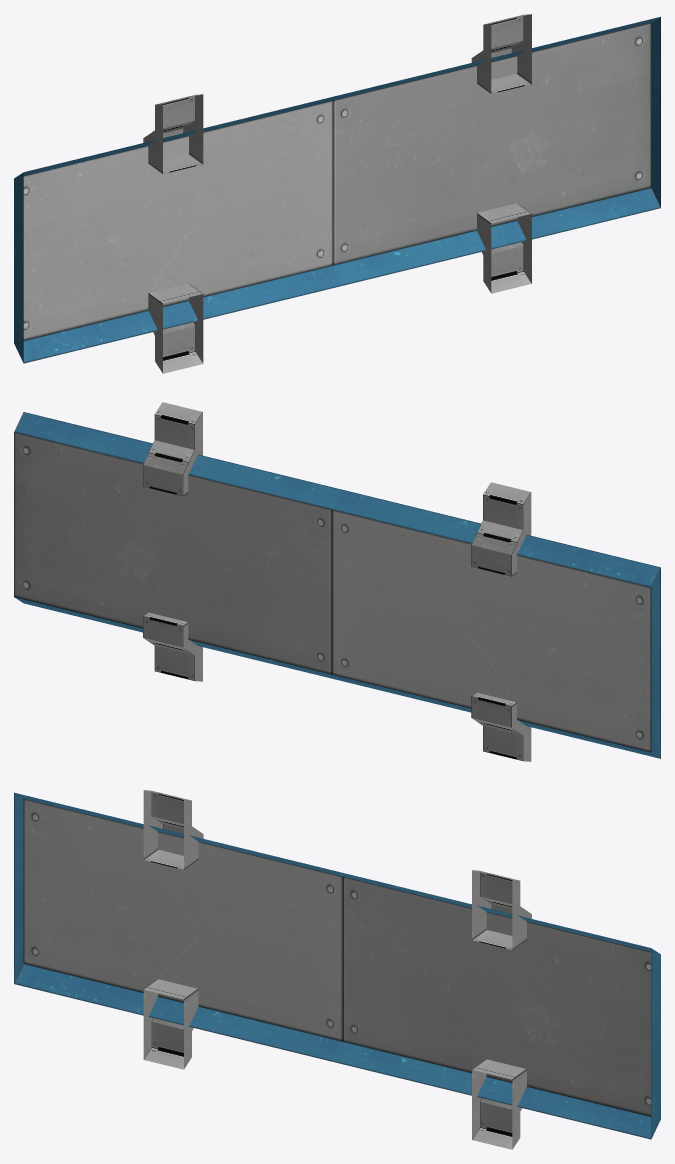
File: Ext_Wall_Element_01.FBX
The picture shows the model from 3 angles, top to bottom: view 1: azimuth 30°, elevation 25°; view 2: azimuth 150°, elevation 25°; view 3: azimuth 330°, elevation 25°; orthographic projection.
Visible parts, largest first — view 1: Ext_Wall_Element_01; view 2: Ext_Wall_Element_01; view 3: Ext_Wall_Element_01.
Part boxes in pixels (x1,y1,x2,y2): Ext_Wall_Element_01: (14,14,660,373); Ext_Wall_Element_01: (14,402,660,761); Ext_Wall_Element_01: (14,790,660,1149).
Size of the model in its own units: 133 by 53.64 by 7.07.
